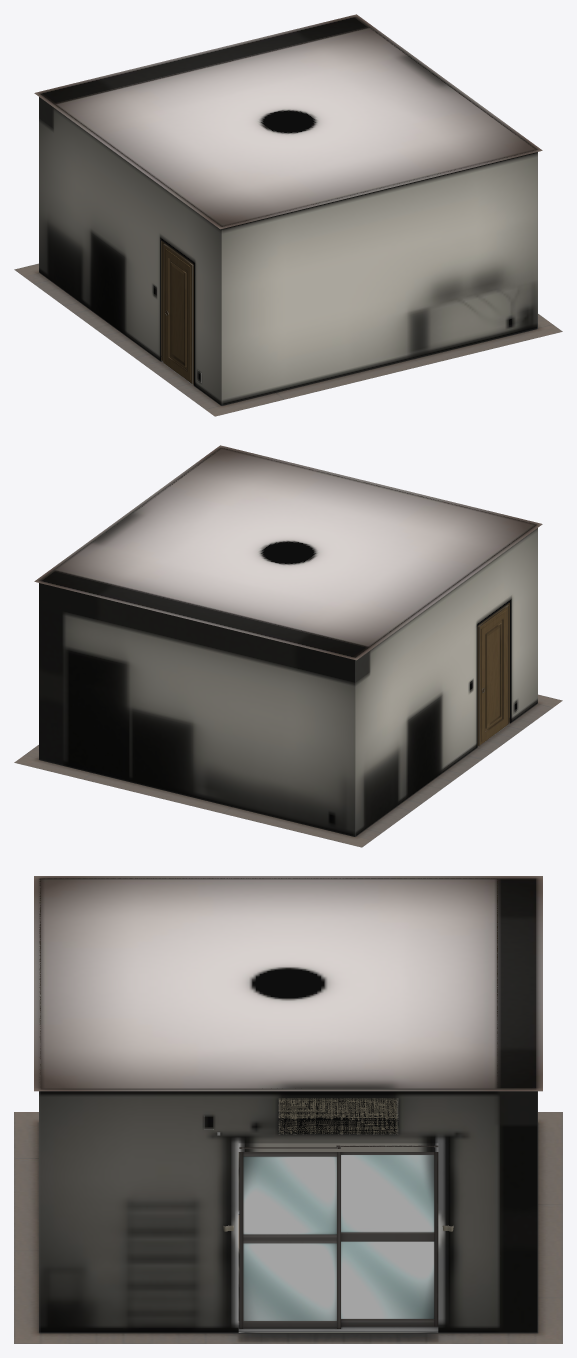
File: StreamingRoom.fbx
3 renders of one model, top to bottom at view 1: azimuth 30°, elevation 25°; view 2: azimuth 150°, elevation 25°; view 3: azimuth 270°, elevation 25°, orthographic. The views are drawn at different scales.
Parts seen in each view (by area): view 1: 02_01_Wall, 02_02_Wall_Front, 01_Floor, 03_Furniture; view 2: 02_01_Wall, 01_Floor, 03_Furniture; view 3: 02_01_Wall, 02_03_Glass, 01_Floor, 03_Furniture.
Part boxes in pixels (left/top/right/bottom): 02_01_Wall: left=34, top=14, right=542, bottom=405; 02_02_Wall_Front: left=221, top=150, right=537, bottom=405; 01_Floor: left=14, top=263, right=562, bottom=416; 03_Furniture: left=161, top=240, right=201, bottom=384; 02_01_Wall: left=34, top=445, right=542, bottom=836; 01_Floor: left=14, top=694, right=562, bottom=847; 03_Furniture: left=477, top=602, right=517, bottom=745; 02_01_Wall: left=34, top=876, right=542, bottom=1333; 02_03_Glass: left=243, top=1155, right=434, bottom=1320; 01_Floor: left=14, top=1112, right=562, bottom=1343; 03_Furniture: left=204, top=1098, right=453, bottom=1320.
Bounding box in the file's own units: 5.5 × 2.7 × 5.5.
